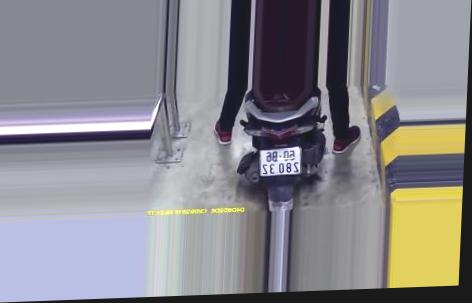License_Plate: (257, 143, 306, 179)
